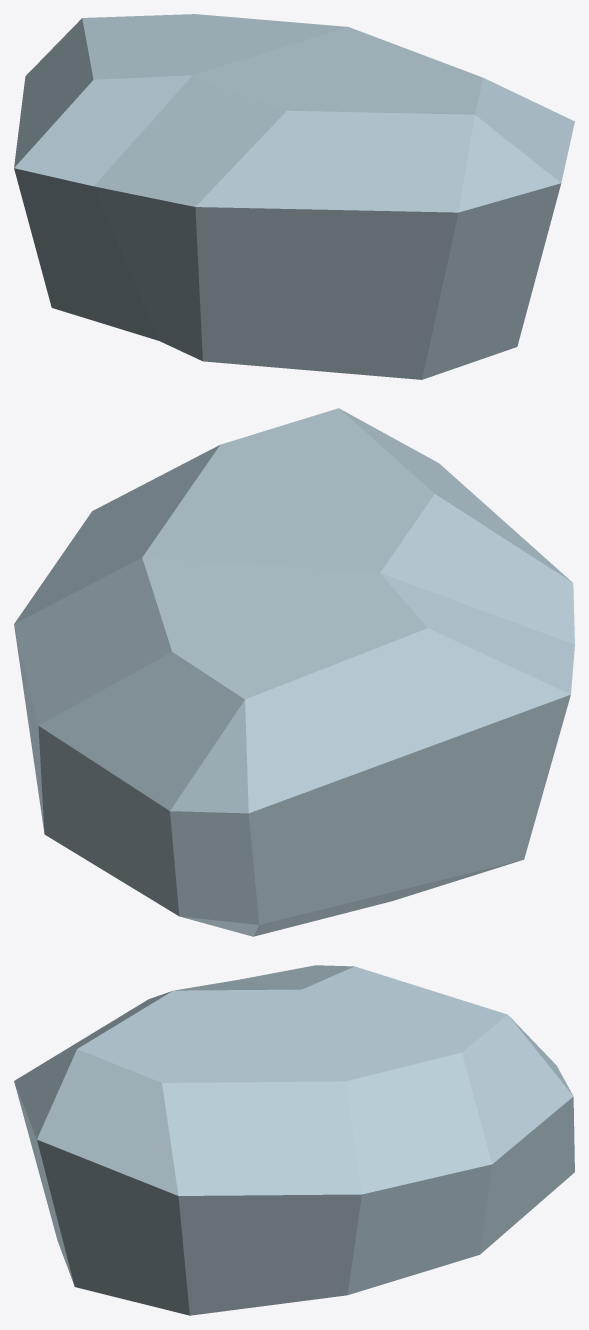
Rendered from rock_01.fbx.
The picture shows the model from 3 angles, top to bottom: view 1: azimuth 30°, elevation 25°; view 2: azimuth 150°, elevation 25°; view 3: azimuth 270°, elevation 25°; orthographic projection. The views are drawn at different scales.
Parts seen in each view (by area): view 1: rock_01; view 2: rock_01; view 3: rock_01.
Part boxes in pixels (box(x1,y1,x2,y2)): rock_01: box(14, 14, 574, 379); rock_01: box(14, 408, 574, 936); rock_01: box(14, 965, 574, 1315).
Size of the model in its own units: 5.46 by 2.92 by 6.
